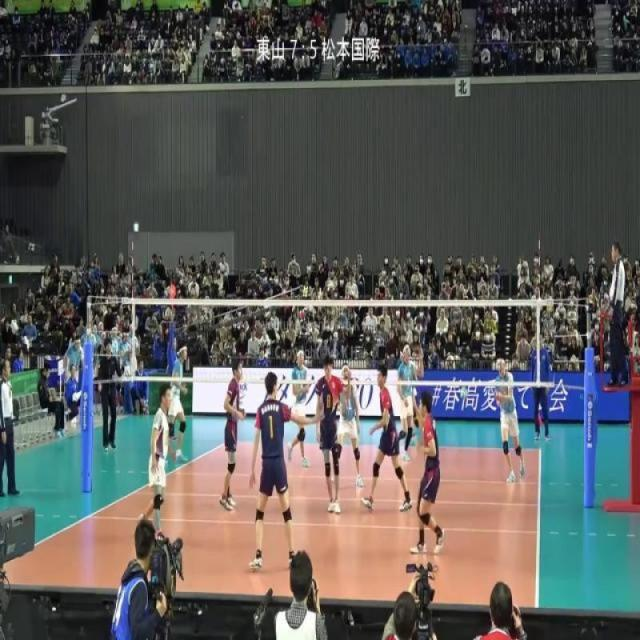volleyball: (460, 386, 467, 399)
